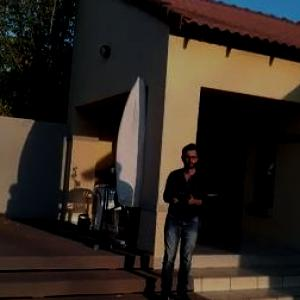follow: (158, 138, 215, 299)
